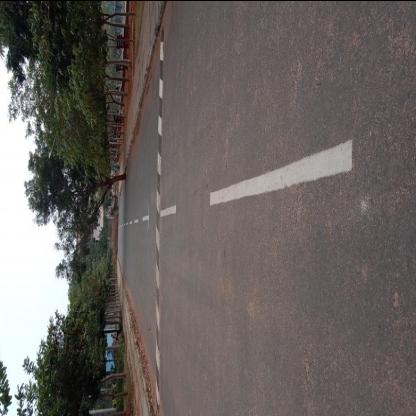speed-bumps: (144, 23, 171, 415)
